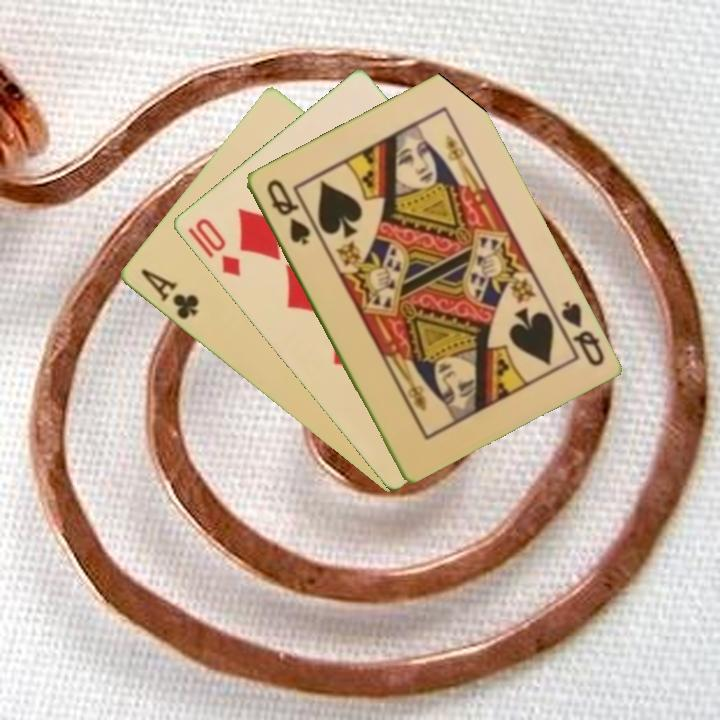10d: (191, 214, 243, 280)
Ac: (136, 265, 202, 323)
Qs: (548, 297, 607, 369), (262, 175, 313, 248)
